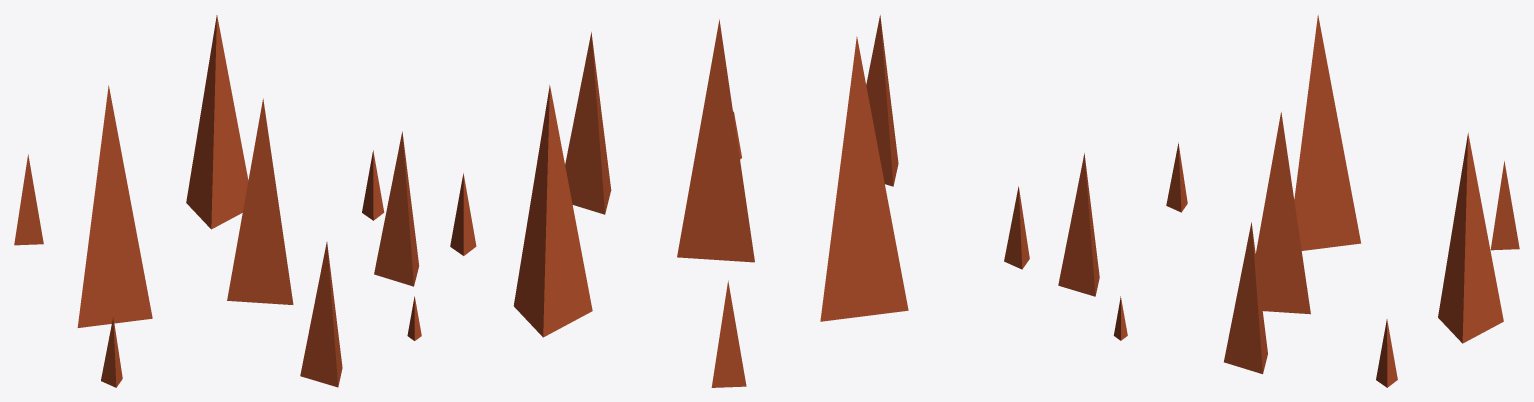
Rendered from world_4_grass_1.dae.
3 views of the same model, side by side, from view 1: azimuth 30°, elevation 25°; view 2: azimuth 150°, elevation 25°; view 3: azimuth 270°, elevation 25° (orthographic). The views are drawn at different scales.
Parts seen in each view (by area): view 1: grass_1; view 2: grass_1; view 3: grass_1.
Part boxes in pixels (box(x1,y1,x2,y2)): grass_1: box(14, 15, 421, 387); grass_1: box(450, 15, 1029, 387); grass_1: box(1058, 15, 1519, 387).
Bounding box in the file's own units: 0.3435 × 0.3635 × 0.1957.
